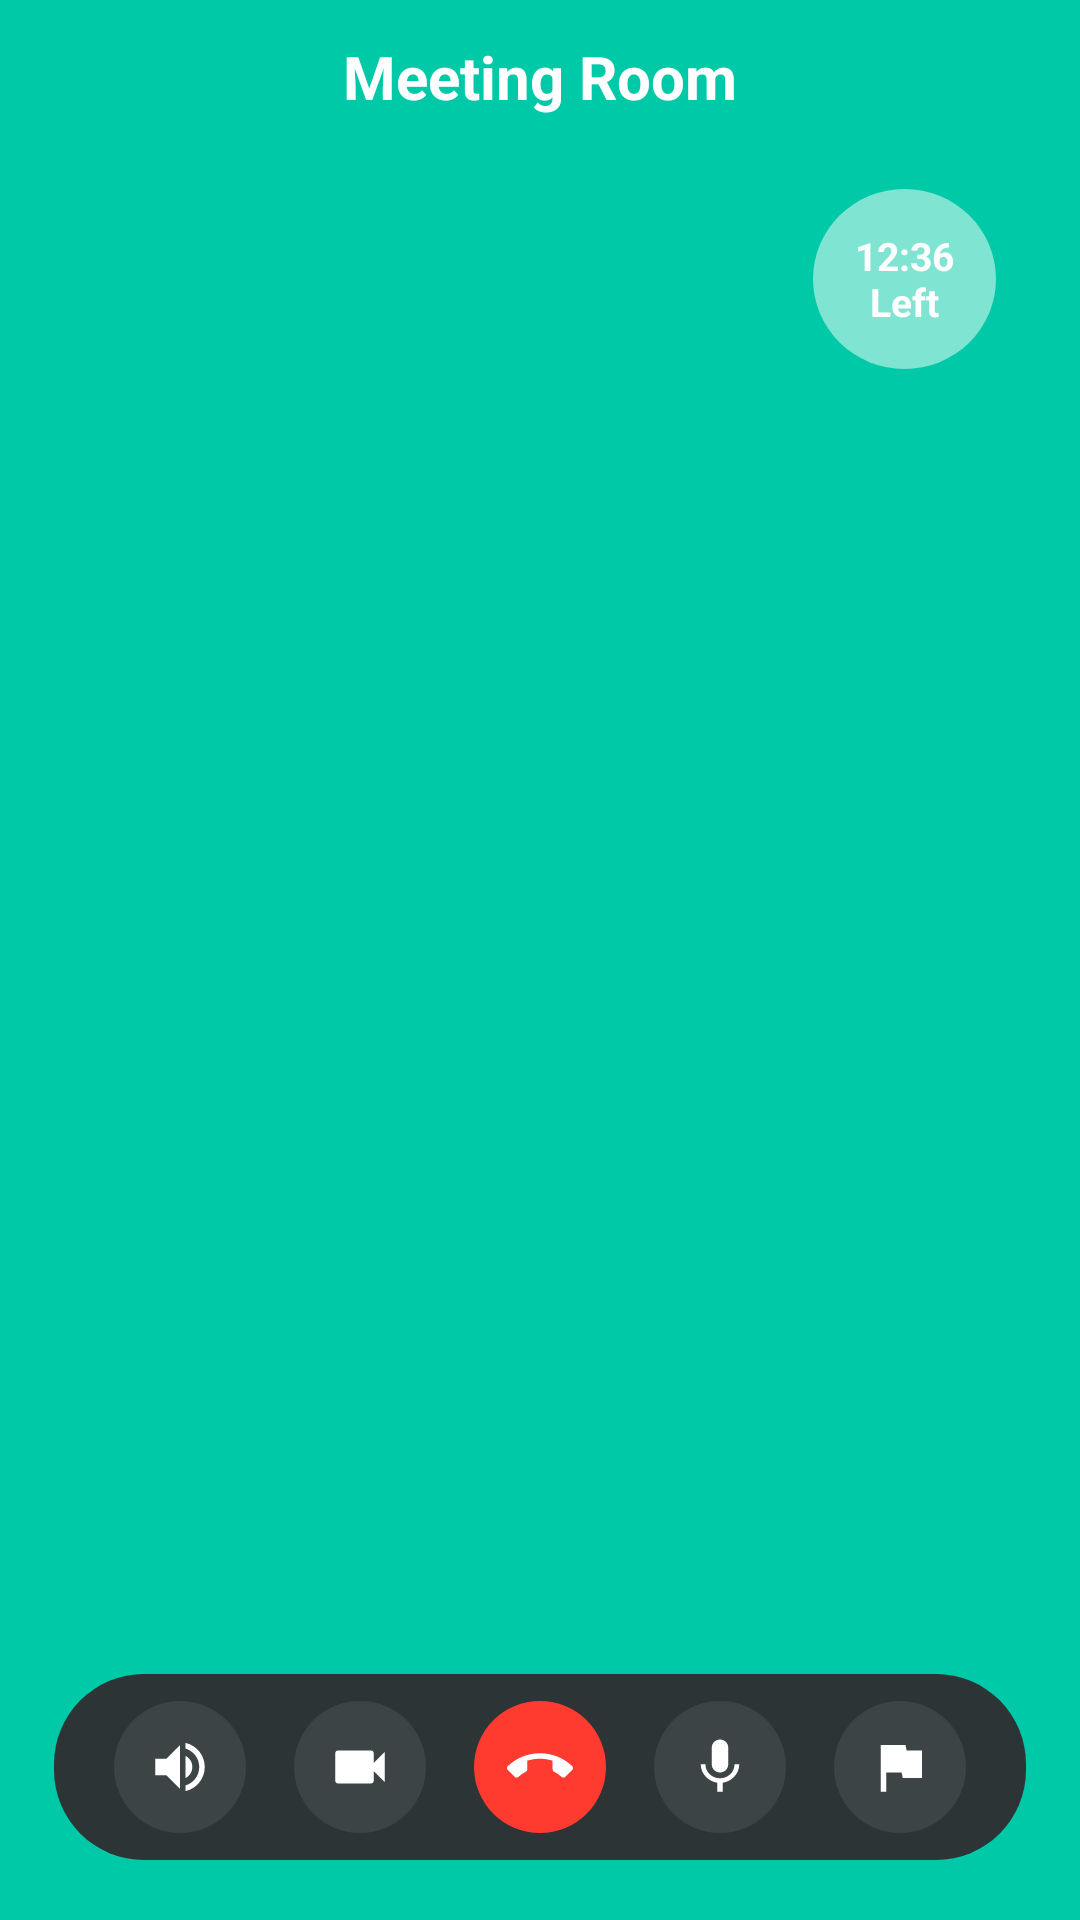

Where icons sit on this 1080px x 1920px app screen, as (x1, y1, x2, y2):
call end: (474, 1701, 606, 1833)
Flag: (880, 1745, 922, 1792)
mic: (654, 1701, 786, 1833)
speaker: (114, 1701, 246, 1833)
videocam: (335, 1750, 385, 1784)
